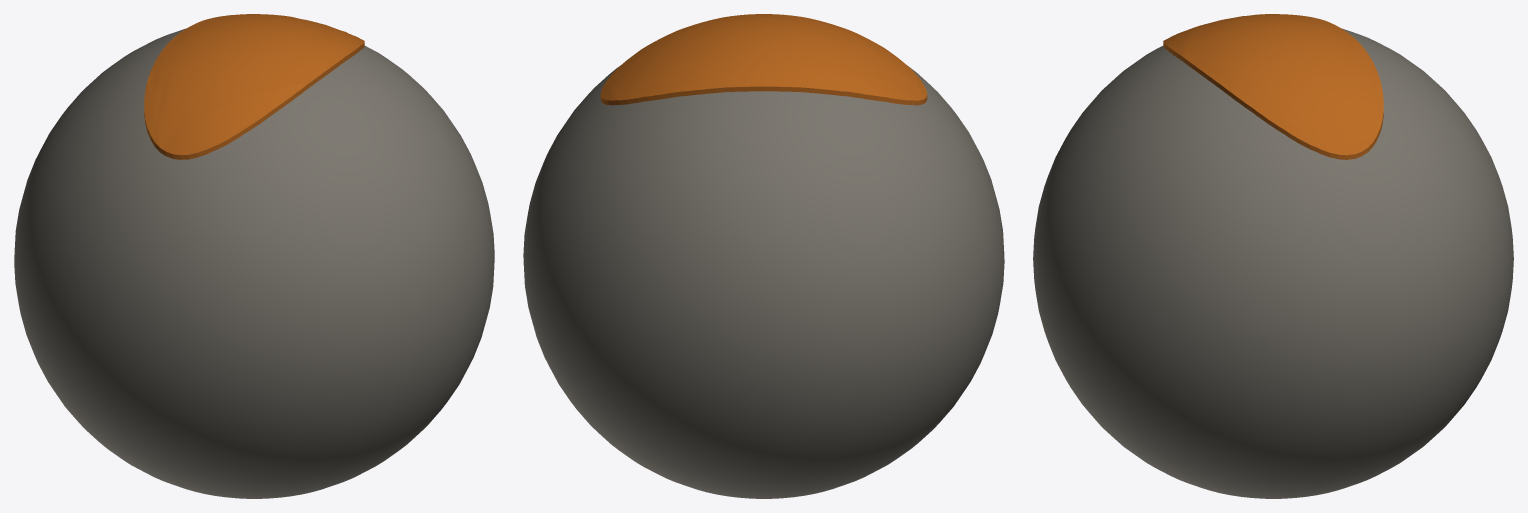
Rendered from edits_lay.glb.
3 renders of one model, left to right at view 1: azimuth 30°, elevation 25°; view 2: azimuth 150°, elevation 25°; view 3: azimuth 270°, elevation 25°, orthographic.
Parts seen in each view (by area): view 1: stone, leaf; view 2: stone, leaf; view 3: stone, leaf.
Boxes of the visible parts, x1,y1,x2,y2 form: stone: (14,28,494,498); leaf: (144,14,364,159); stone: (523,66,1004,498); leaf: (600,14,927,105); stone: (1033,28,1513,498); leaf: (1163,14,1383,159).
Size of the model in its own units: 0.14 by 0.1415 by 0.14.
